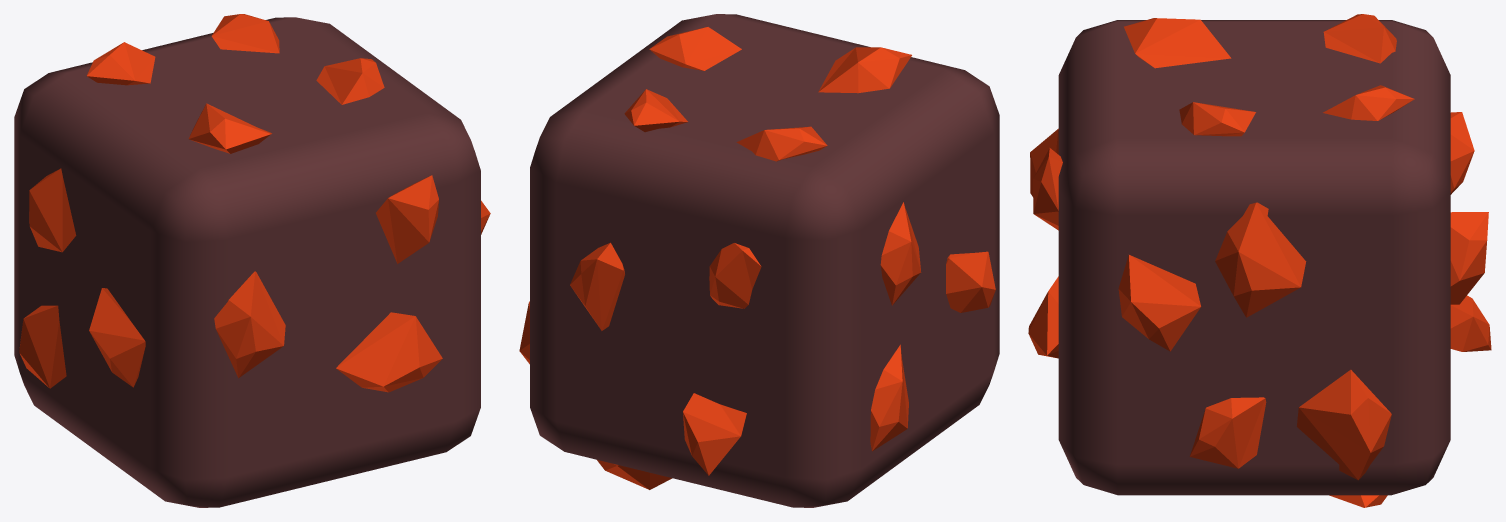
Rendered from SM_Friedelite.fbx.
3 renders of one model, left to right at view 1: azimuth 30°, elevation 25°; view 2: azimuth 150°, elevation 25°; view 3: azimuth 270°, elevation 25°, orthographic. The views are drawn at different scales.
Visible parts, largest first — view 1: Cube.012; view 2: Cube.012; view 3: Cube.012.
Boxes of the visible parts, x1,y1,x2,y2 form: Cube.012: (14,14,490,507); Cube.012: (519,14,999,507); Cube.012: (1028,14,1491,507).
Bounding box in the file's own units: 235 × 235 × 239.
